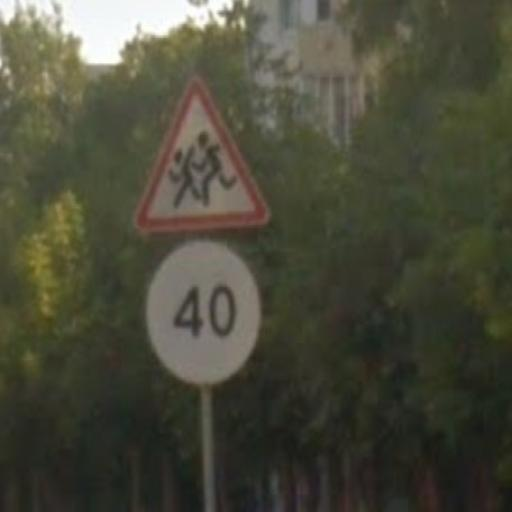traffic_sign: (134, 78, 272, 236), (144, 236, 263, 388)
